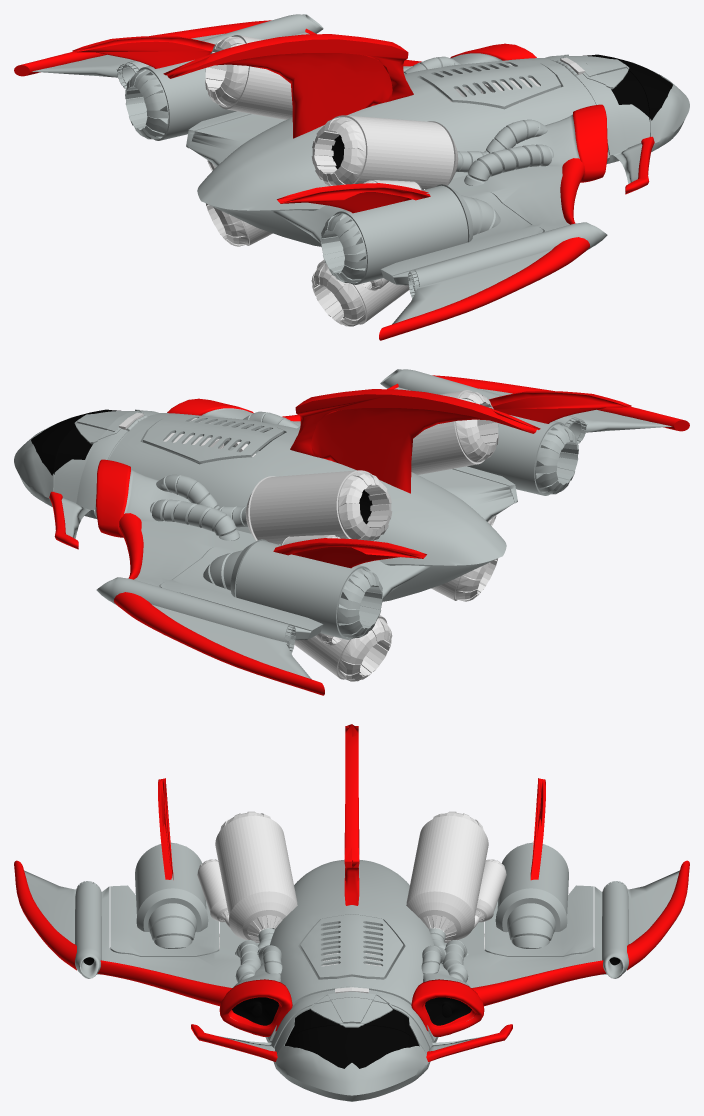
File: ship.fbx
The picture shows the model from 3 angles, top to bottom: view 1: azimuth 30°, elevation 25°; view 2: azimuth 150°, elevation 25°; view 3: azimuth 270°, elevation 25°; orthographic projection. The views are drawn at different scales.
Visible parts, largest first — view 1: body, Loft NURBS.3.2, Loft NURBS.6, Loft NURBS.3.3, Loft NURBS.1, Loft NURBS.5, Loft NURBS.3, Loft NURBS.2, Loft NURBS.4, TC, Loft NURBS.4.6, glass (+6 smaller); view 2: body, Loft NURBS.3.2, Loft NURBS.6, Loft NURBS.3.3, Loft NURBS.1, Loft NURBS.5, Loft NURBS.3, Loft NURBS.2, Loft NURBS.4, TC, Loft NURBS.4.6, glass (+6 smaller); view 3: body, Loft NURBS.3.2, Loft NURBS.6, Loft NURBS.3.3, Loft NURBS.4.6, TC, Loft NURBS.4, glass, Loft NURBS.5, Loft NURBS, Loft NURBS.2, Loft NURBS.1 (+6 smaller).
Boxes of the visible parts, x1,y1,x2,y2 form: body: (197, 54, 689, 246); Loft NURBS.3.2: (205, 35, 458, 326); Loft NURBS.6: (125, 60, 500, 284); Loft NURBS.3.3: (32, 32, 569, 324); Loft NURBS.1: (163, 34, 413, 138); Loft NURBS.5: (117, 14, 607, 298); Loft NURBS.3: (72, 36, 430, 213); Loft NURBS.2: (14, 20, 589, 340); Loft NURBS.4: (450, 43, 607, 182); TC: (419, 59, 560, 108); Loft NURBS.4.6: (186, 111, 543, 284); glass: (583, 54, 672, 120); body: (14, 409, 506, 601); Loft NURBS.3.2: (245, 390, 498, 681); Loft NURBS.6: (203, 415, 578, 639); Loft NURBS.3.3: (134, 387, 671, 679); Loft NURBS.1: (290, 389, 540, 493); Loft NURBS.5: (96, 369, 586, 653); Loft NURBS.3: (273, 391, 631, 568); Loft NURBS.2: (114, 375, 689, 695); Loft NURBS.4: (96, 398, 253, 537); TC: (143, 414, 284, 462); Loft NURBS.4.6: (160, 466, 517, 639); glass: (31, 409, 120, 475); body: (265, 859, 438, 1101); Loft NURBS.3.2: (215, 811, 488, 942); Loft NURBS.6: (135, 842, 568, 948); Loft NURBS.3.3: (24, 870, 679, 987); Loft NURBS.4.6: (110, 885, 593, 956); TC: (300, 914, 403, 979); Loft NURBS.4: (219, 963, 484, 1036); glass: (285, 1009, 418, 1068); Loft NURBS.5: (75, 881, 628, 978); Loft NURBS: (97, 960, 606, 1006); Loft NURBS.2: (14, 860, 689, 970); Loft NURBS.1: (344, 724, 359, 905).
Size of the model in its own units: 600 by 276 by 731.
